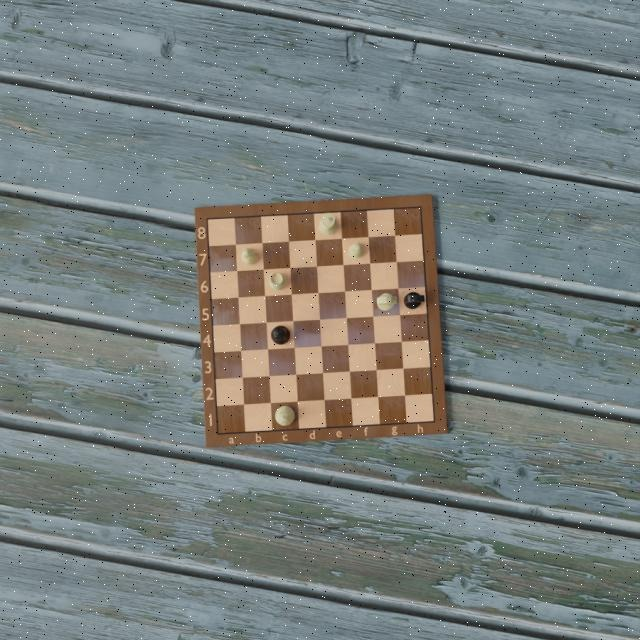black-king: (269, 326, 292, 346)
black-knight: (403, 292, 425, 310)
white-bishop: (241, 245, 259, 266)
white-king: (274, 406, 296, 426)
white-knight: (376, 292, 398, 312)
white-pawn: (346, 241, 363, 259)
white-queen: (317, 214, 338, 238)
white-rook: (269, 272, 287, 292)
